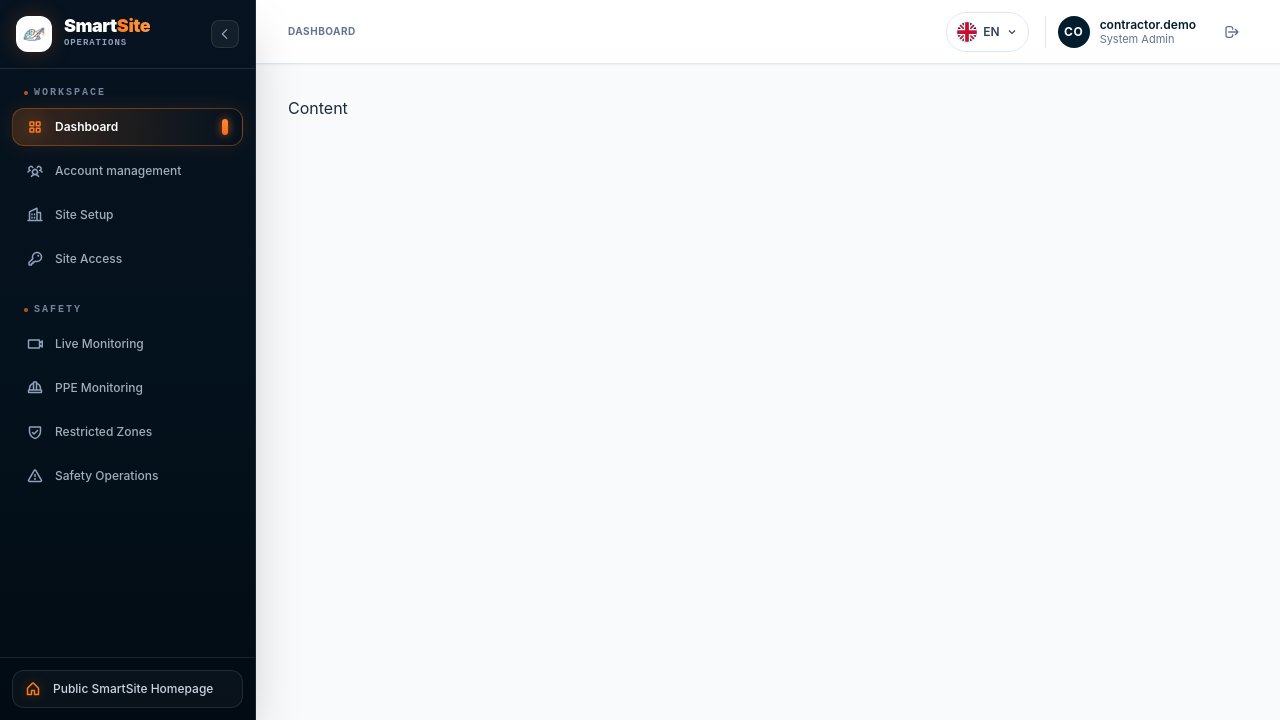
it: switches header and navigation language and persists the choice
This screenshot has width=1280, height=720.
Step 1. Click the button with aria-label "Choose language" → (987, 32), box [946,12,1029,52]
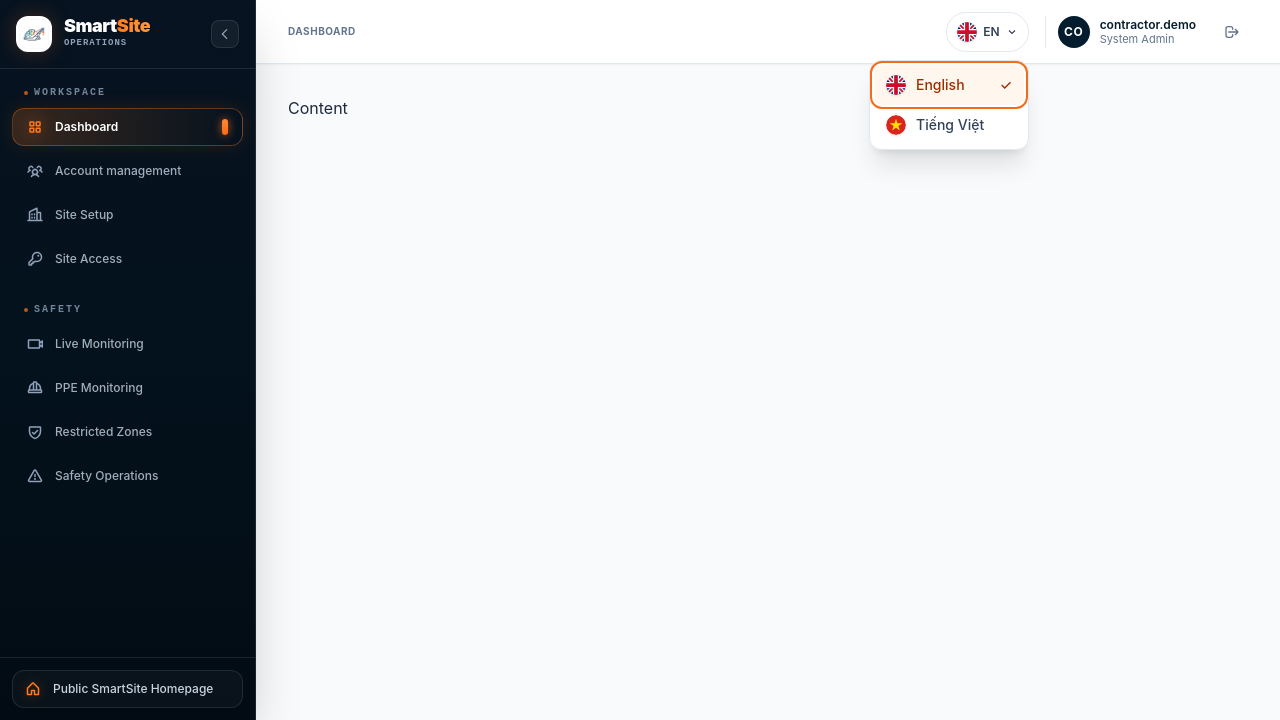
Step 2. Click the button "Tiếng Việt" → (949, 125), box [874,105,1024,145]
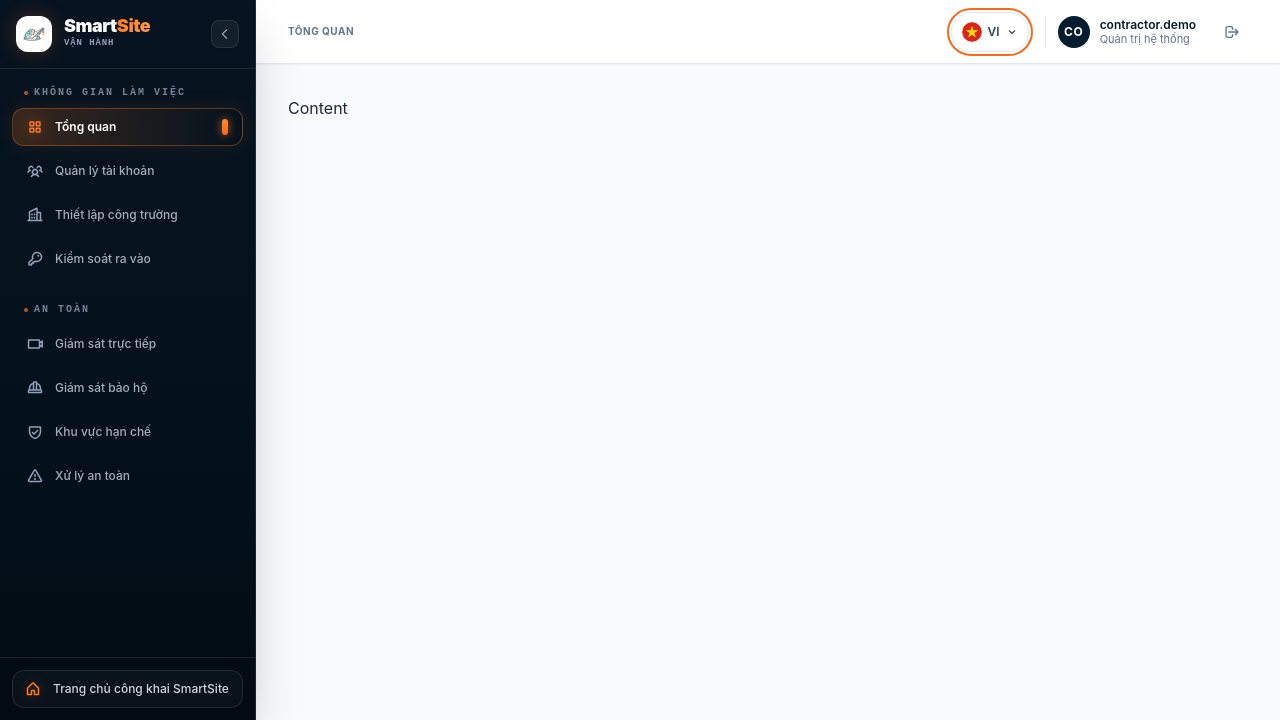
Expected: the button with aria-label "Chọn ngôn ngữ" is shown, [951,12,1029,52]
Expected: the button "Quản lý tài khoản" is shown, [12,152,243,190]
Expected: the navigation bar named "Điều hướng chính" is shown, [12,85,243,495]
